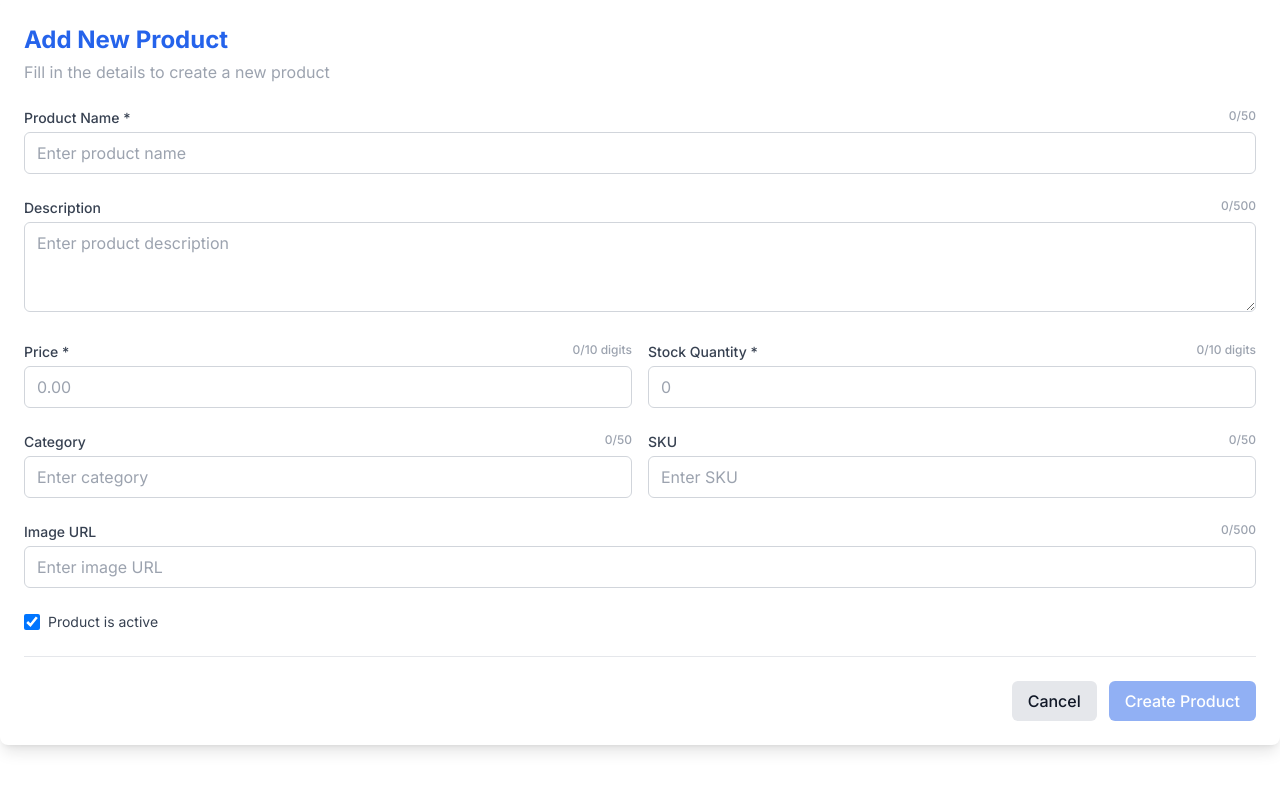
it: ProductForm Component › Form Validation - Required Fields › submit button is enabled when all required fields are filled
Type "Test Product" into the field labelled "Product Name * 0/50" at {"x": 640, "y": 153}, box [24,132,1256,174]
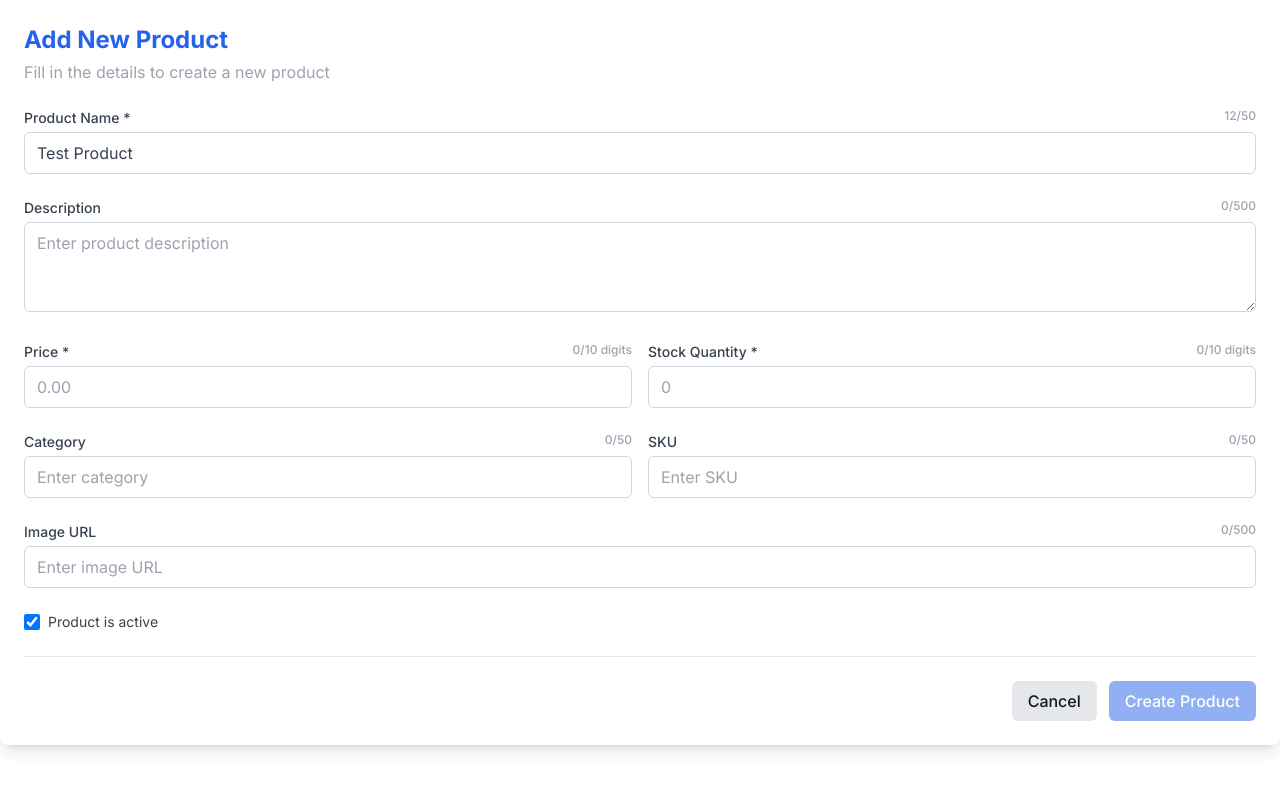
Type "10" into the number field labelled "Price * 0/10 digits" at {"x": 328, "y": 387}, box [24,366,632,408]
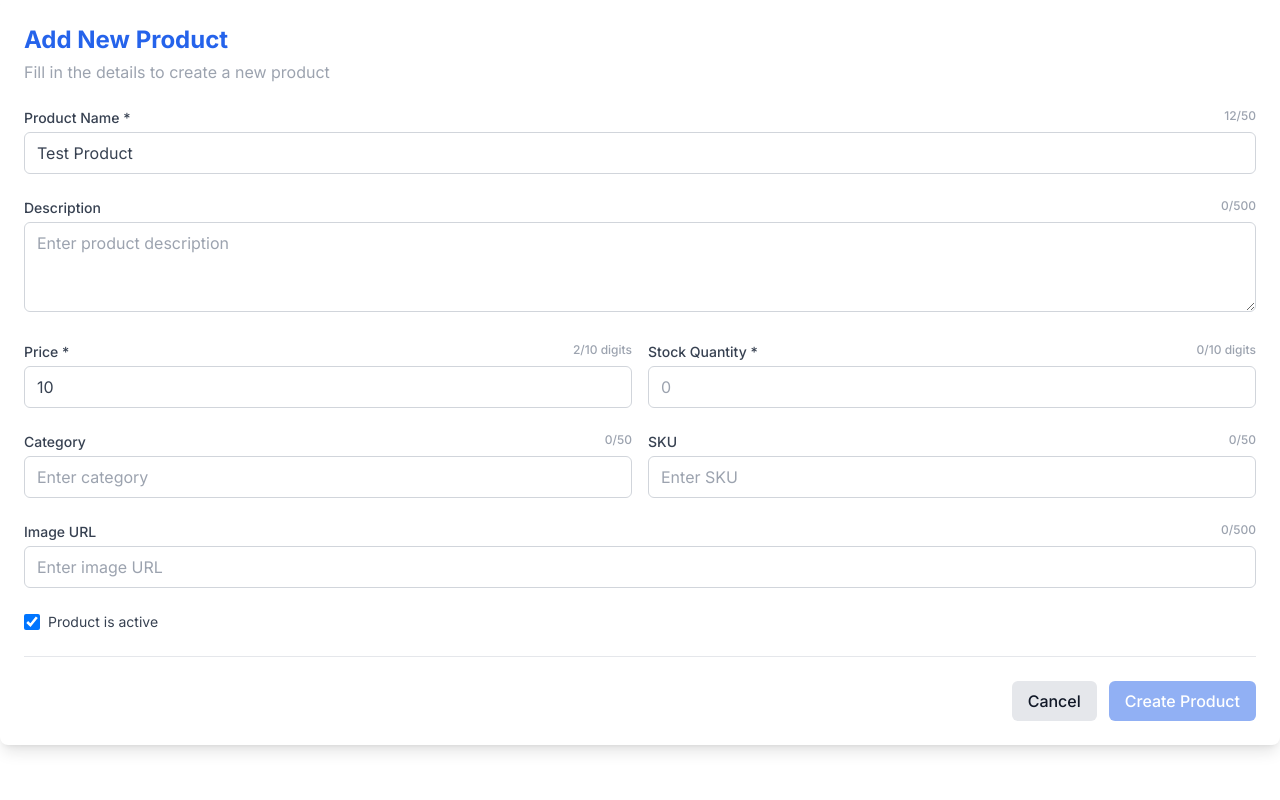
Type "5" into the number field labelled "Stock Quantity * 0/10 digits" at {"x": 952, "y": 387}, box [648,366,1256,408]
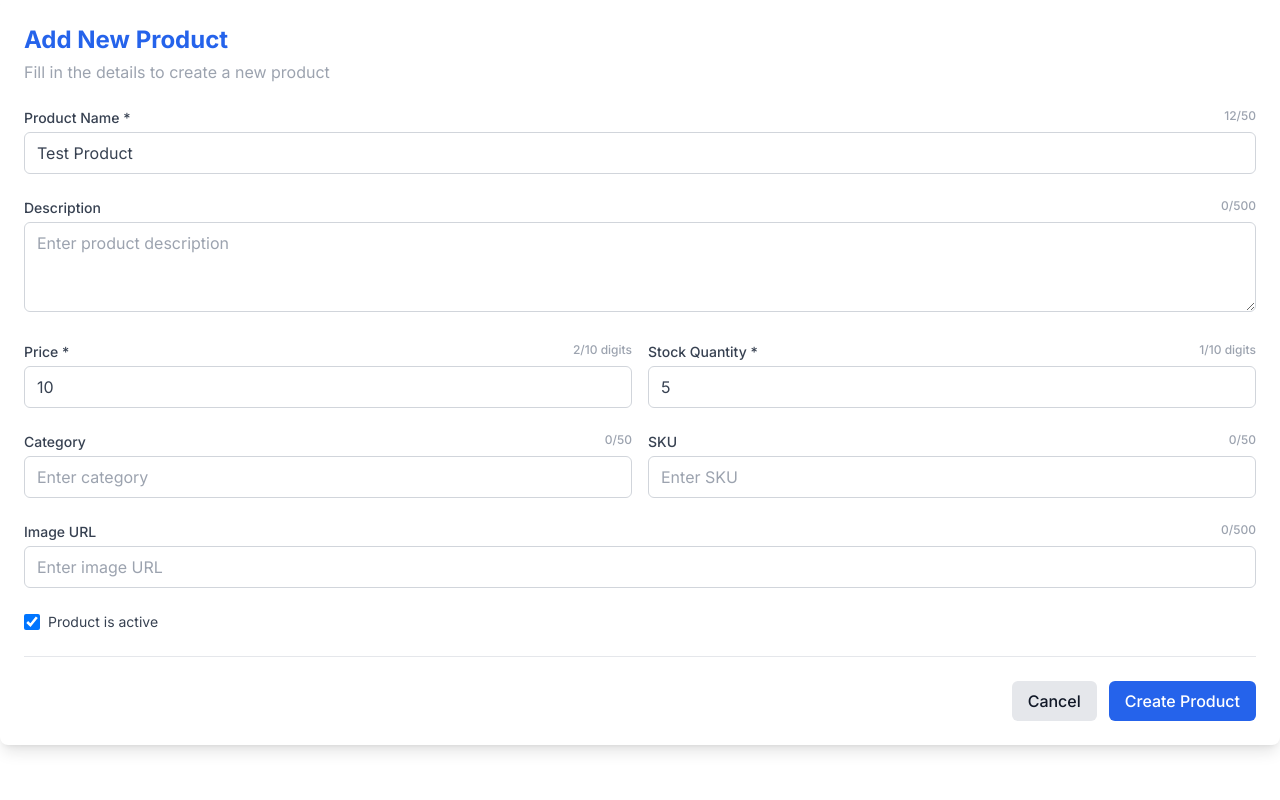
Expected: the button "Create Product" is enabled, [1109,681,1256,721]
